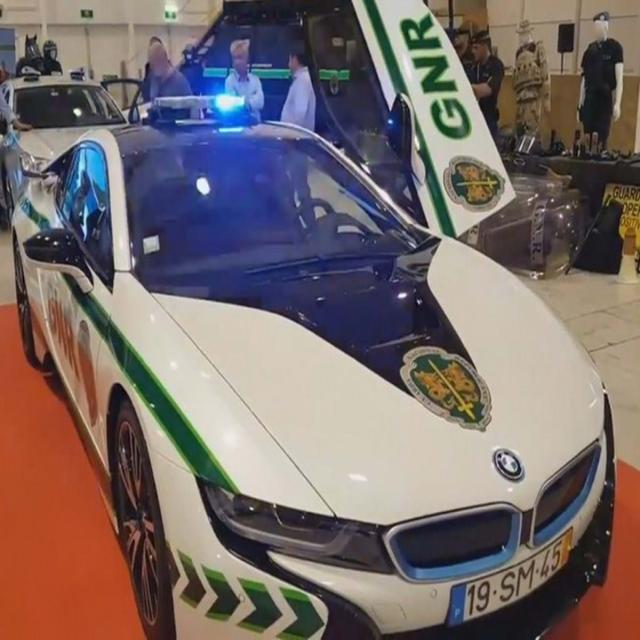portuguese-license-plates: (445, 526, 576, 638)
